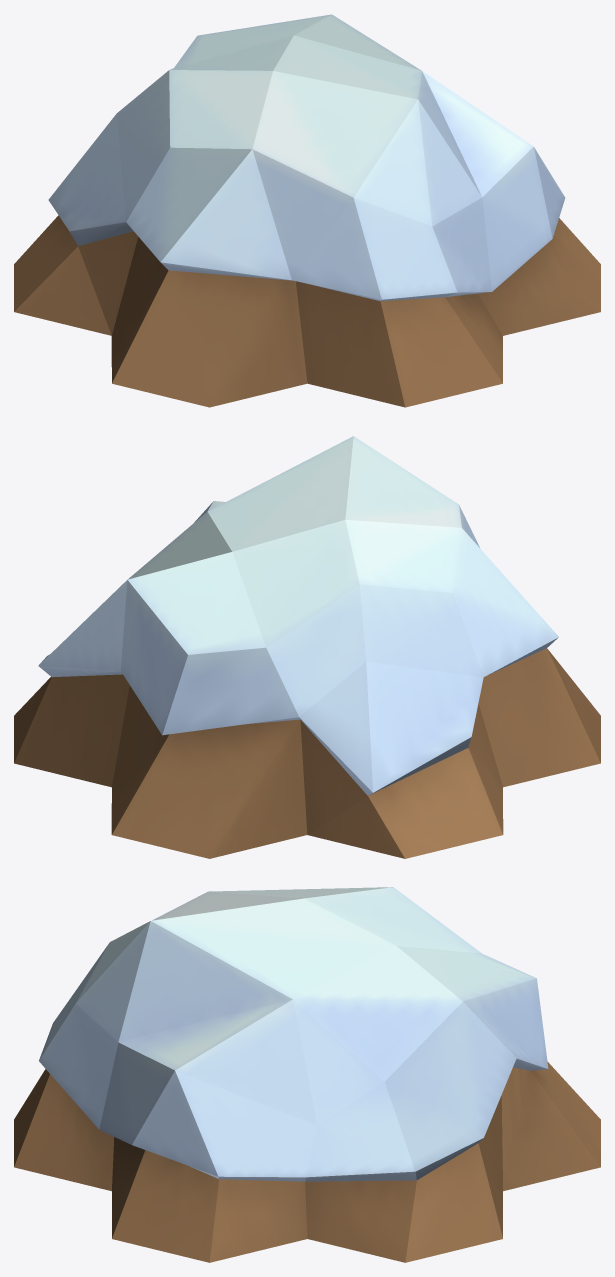
Rendered from RocherNeige_B.FBX.
The picture shows the model from 3 angles, top to bottom: view 1: azimuth 30°, elevation 25°; view 2: azimuth 150°, elevation 25°; view 3: azimuth 270°, elevation 25°; orthographic projection.
Visible parts, largest first — view 1: RocherNeige_B; view 2: RocherNeige_B; view 3: RocherNeige_B.
Boxes of the visible parts, box(x1,y1,x2,y2) form: RocherNeige_B: box(14, 14, 600, 407); RocherNeige_B: box(14, 436, 600, 858); RocherNeige_B: box(14, 887, 600, 1262).
Size of the model in its own units: 2.5 by 1.16 by 2.6.
